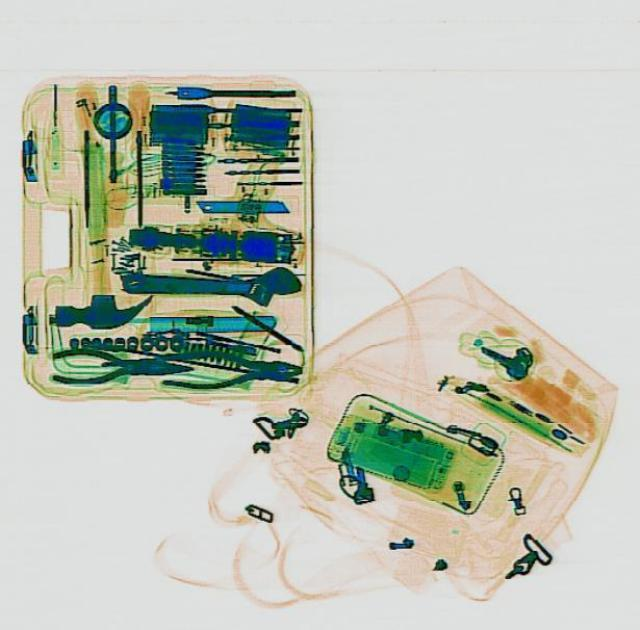Pliers: (157, 346, 300, 389), (50, 346, 190, 383)
Wrench: (121, 262, 299, 304)
